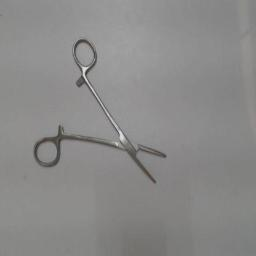Mayo Needle Holder: (30, 34, 172, 190)
